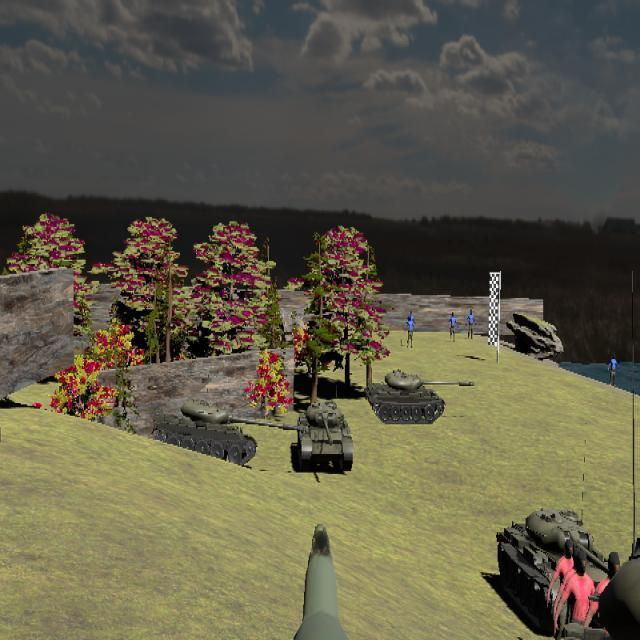Human: (553, 547, 597, 640)
Tank: (496, 507, 613, 637), (152, 399, 303, 469), (365, 370, 475, 426), (297, 401, 353, 473)
